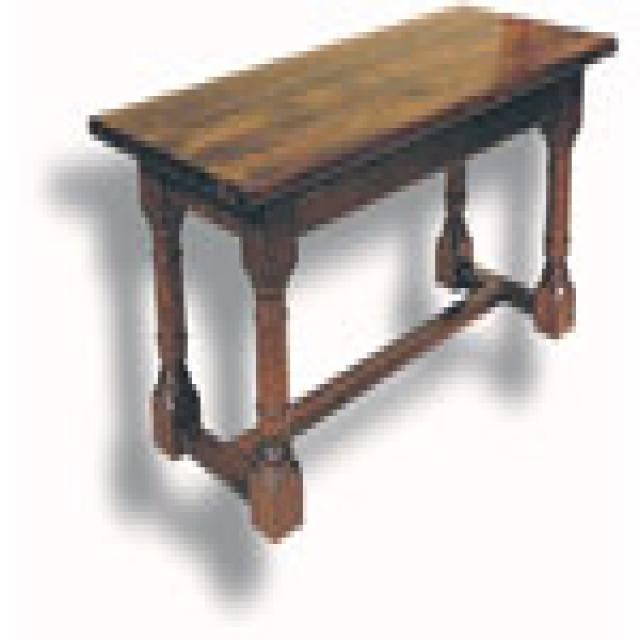table: (88, 6, 619, 543)
